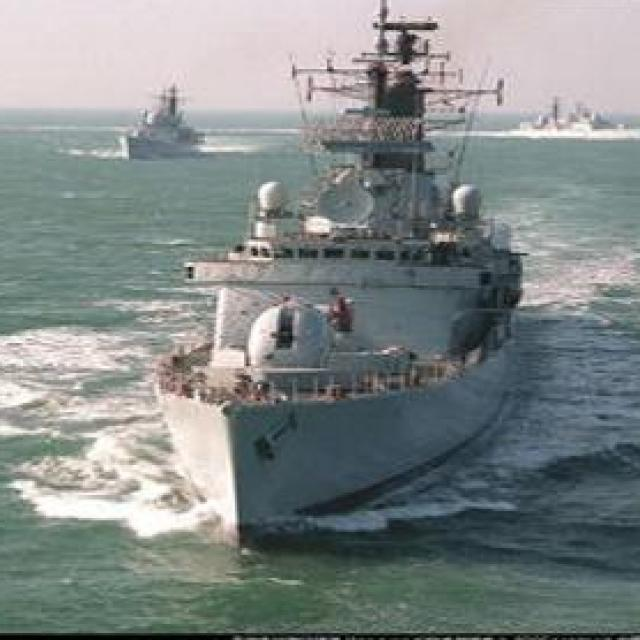navalvessels: (155, 2, 518, 551), (116, 79, 202, 161), (516, 94, 640, 138)
